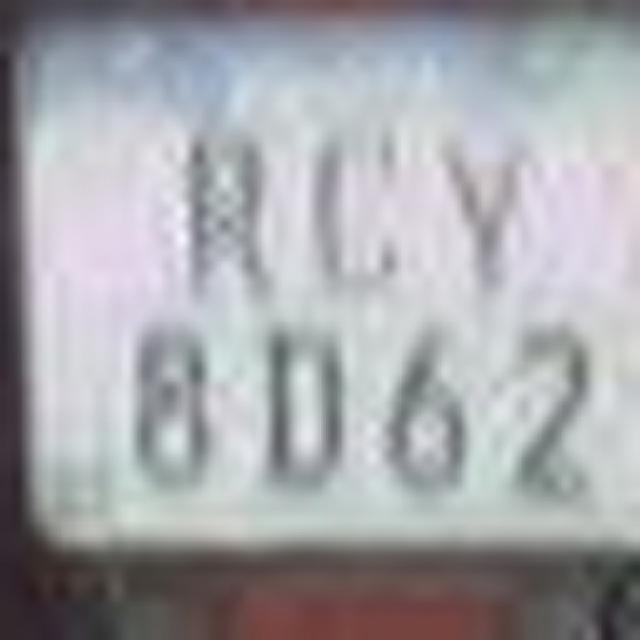2: (480, 308, 612, 512)
6: (368, 304, 484, 516)
8: (116, 304, 229, 508)
D: (240, 300, 360, 508)
U: (296, 116, 412, 304)
Y: (428, 116, 548, 309)
